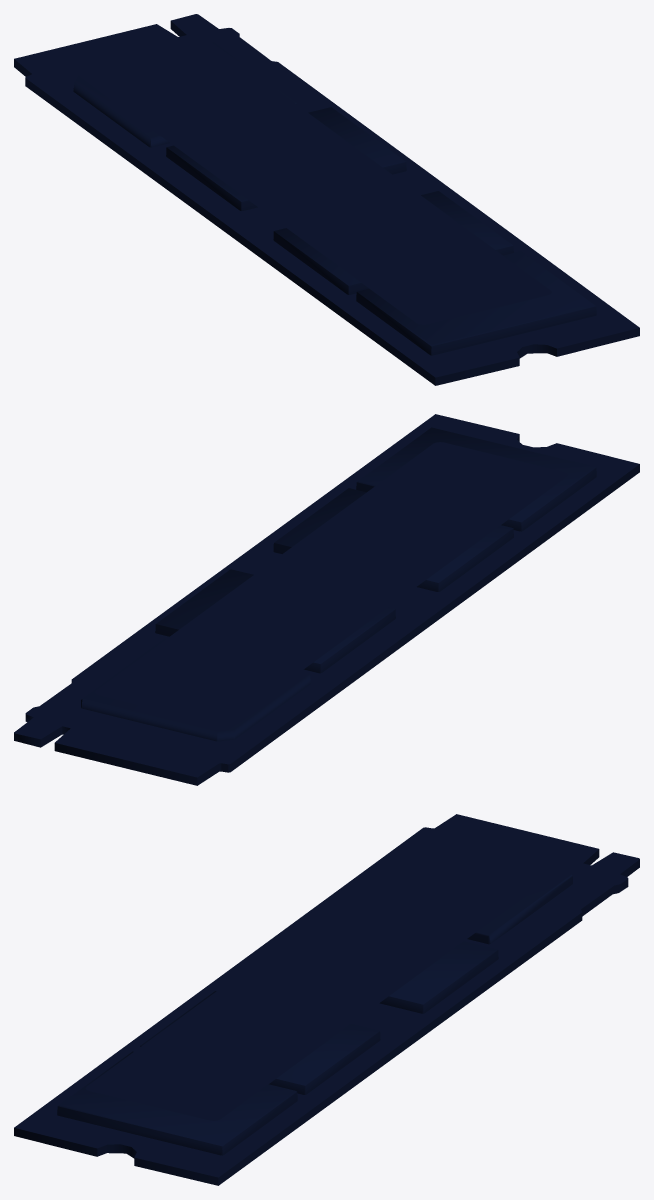
Rendered from ssd-kingston-nv3-1tb_lod2.glb.
The picture shows the model from 3 angles, top to bottom: view 1: azimuth 30°, elevation 25°; view 2: azimuth 150°, elevation 25°; view 3: azimuth 330°, elevation 25°; orthographic projection.
Parts seen in each view (by area): view 1: body; view 2: body; view 3: body.
Part boxes in pixels (box(x1,y1,x2,y2)): body: box(14, 14, 639, 385); body: box(14, 414, 639, 785); body: box(14, 814, 639, 1185).
Size of the model in its own units: 0.0219 by 0.0023 by 0.0799.
